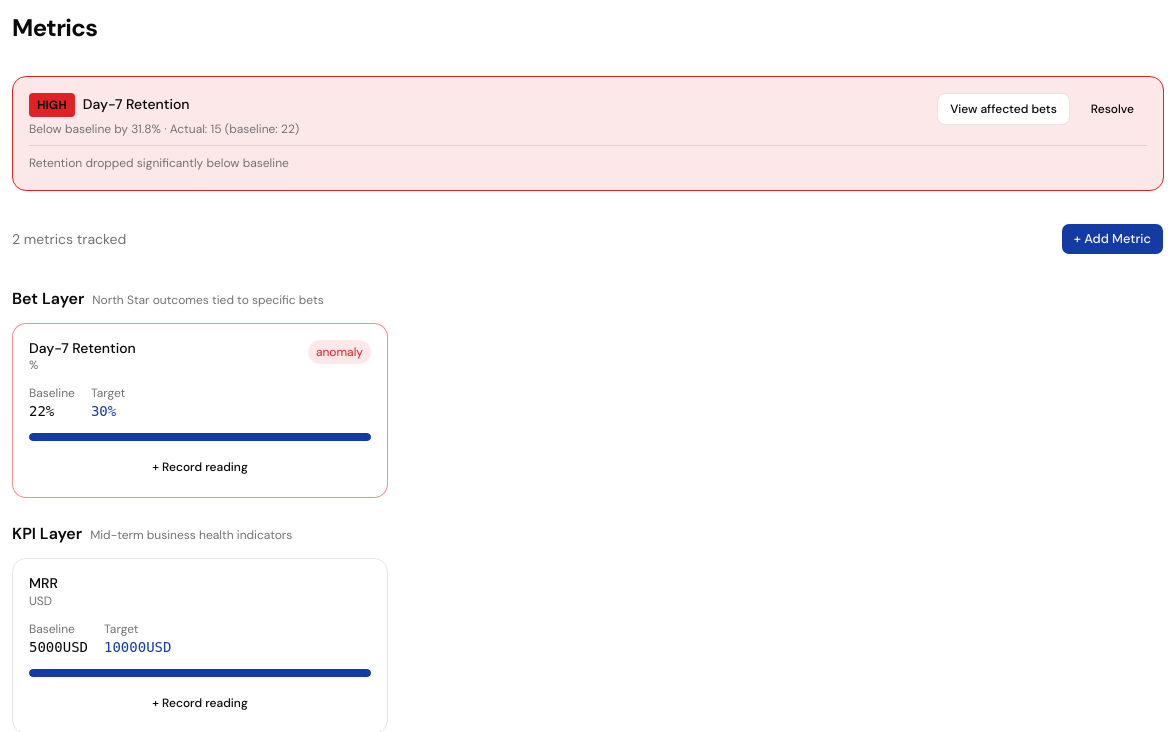
it: MetricsPage › shows Add Metric form toggle
The image size is (1176, 732).
Click the button "+ Add Metric" at (1112,238), box [1061,222,1164,254]
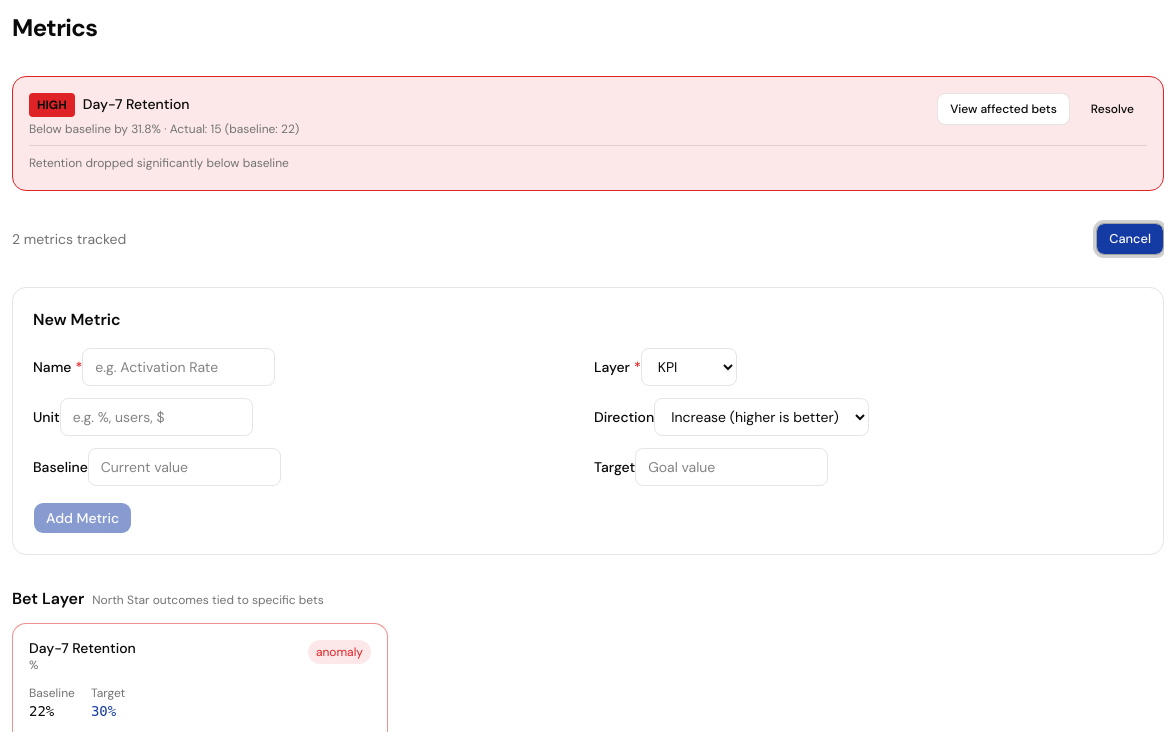
Check: the field with placeholder "e.g. Activation Rate" is shown, box [82,348,275,386]
